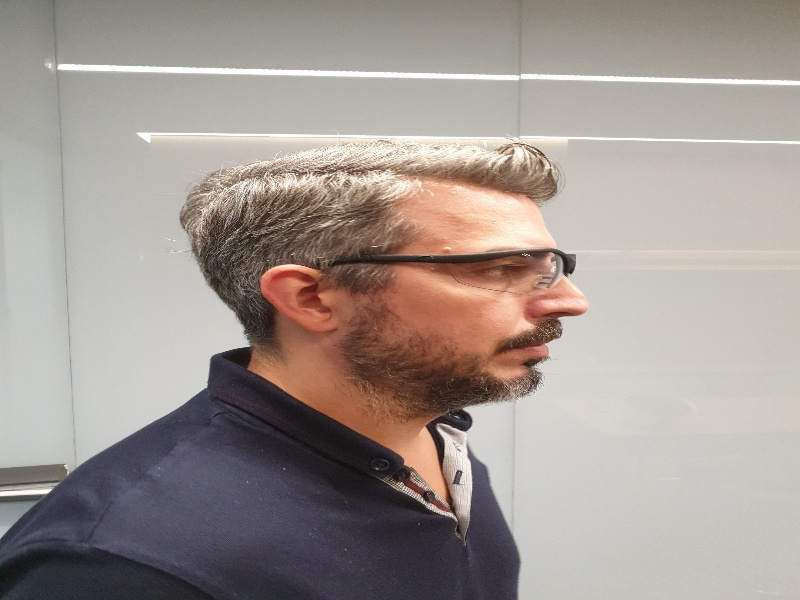Gozluk: (318, 249, 578, 291)
